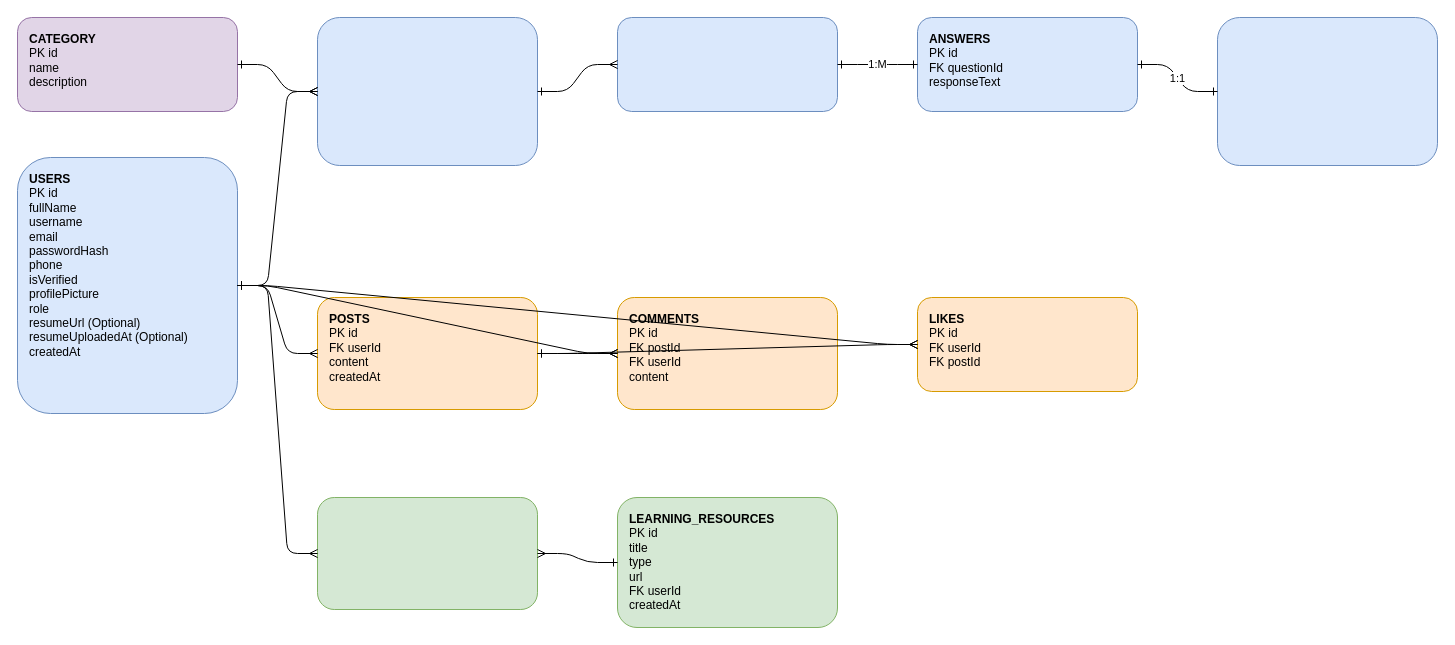
Some shapes in this 1455 by 645 pixel diagram are drawn without their labels. Each missing label, with the box of its shape:
FEEDBACK PK id FK answerId score strengths weaknesses suggestedAnswer: (1216, 16, 1438, 166)
INTERVIEWS PK id FK userId FK categoryId difficulty createdAt score: (316, 16, 538, 166)
QUESTIONS PK id FK interviewId text: (616, 16, 838, 112)
RATINGS PK ratingId FK userId FK resourceId ratingValue createdAt: (316, 496, 538, 610)
